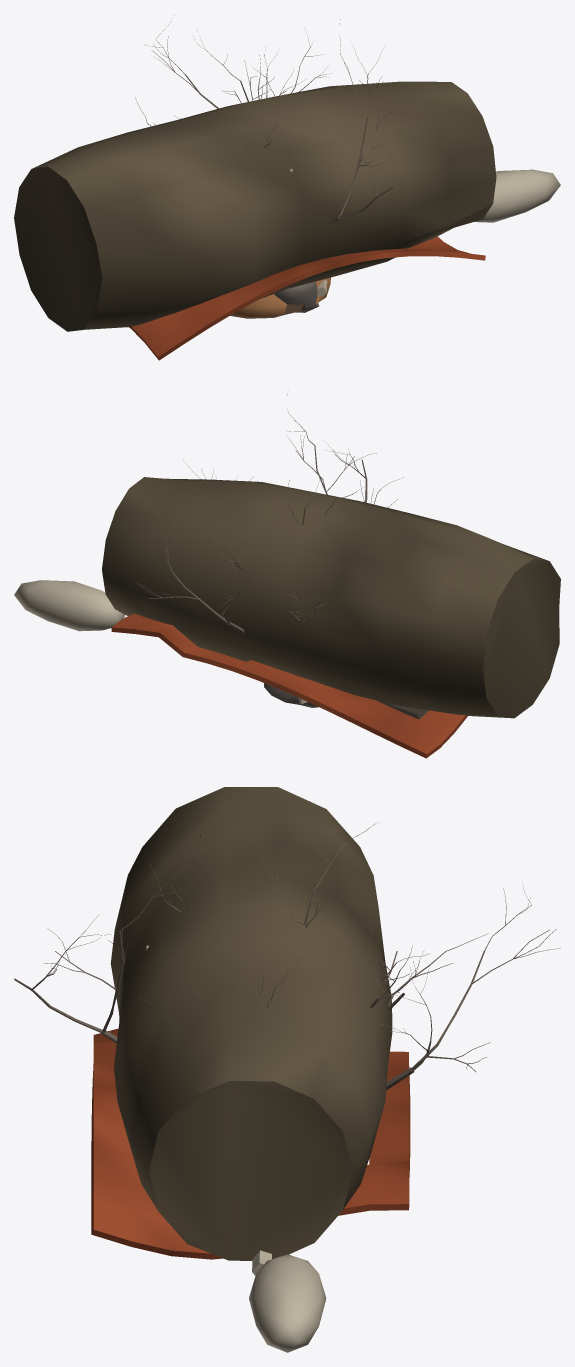
The model's file is props.glb.
The picture shows the model from 3 angles, top to bottom: view 1: azimuth 30°, elevation 25°; view 2: azimuth 150°, elevation 25°; view 3: azimuth 270°, elevation 25°; orthographic projection. The views are drawn at different scales.
Visible parts, largest first — view 1: scrap_engine, scrap_panel, carcass, bush1, stone2, bush0, stone1; view 2: scrap_engine, scrap_panel, carcass, bush0, bush1; view 3: scrap_engine, scrap_panel, carcass, bush0, bush1.
Boxes of the visible parts, box(x1,y1,x2,y2) form: scrap_engine: box(14, 81, 496, 331); scrap_panel: box(129, 236, 485, 360); carcass: box(289, 169, 560, 222); bush1: box(174, 19, 405, 223); stone2: box(233, 277, 330, 317); bush0: box(135, 18, 398, 149); stone1: box(274, 281, 319, 312); scrap_engine: box(102, 477, 560, 718); scrap_panel: box(111, 613, 467, 758); carcass: box(14, 580, 125, 631); bush0: box(135, 460, 403, 634); bush1: box(247, 394, 376, 612); scrap_engine: box(110, 787, 392, 1260); scrap_panel: box(91, 1028, 410, 1259); carcass: box(146, 945, 326, 1352); bush0: box(138, 863, 560, 1090); bush1: box(14, 822, 429, 1043).
Size of the model in its own units: 3.44 by 1.81 by 2.26.
